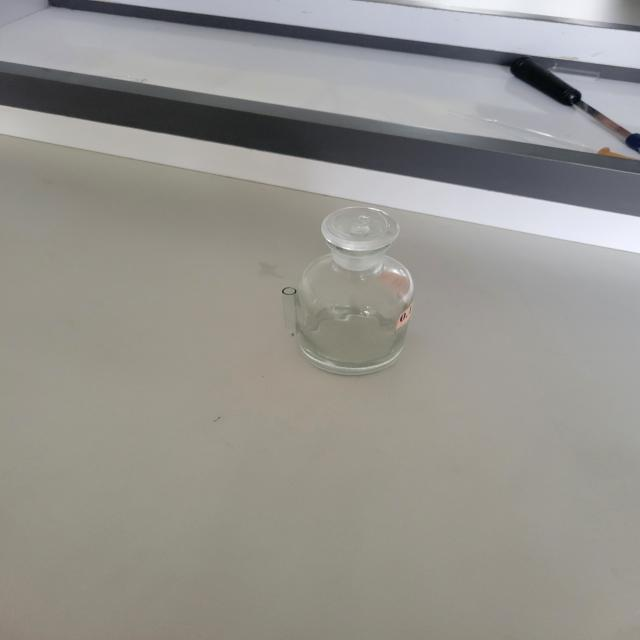Reagent_Bottle: (231, 167, 443, 384)
